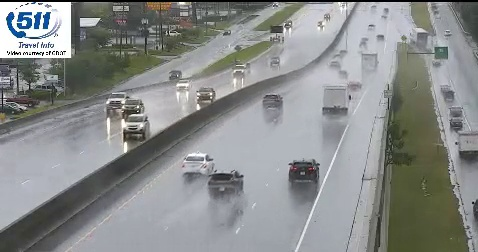car: (208, 170, 243, 195), (182, 153, 214, 175), (289, 160, 319, 182), (262, 94, 283, 110)
small-truck: (322, 85, 350, 115)
